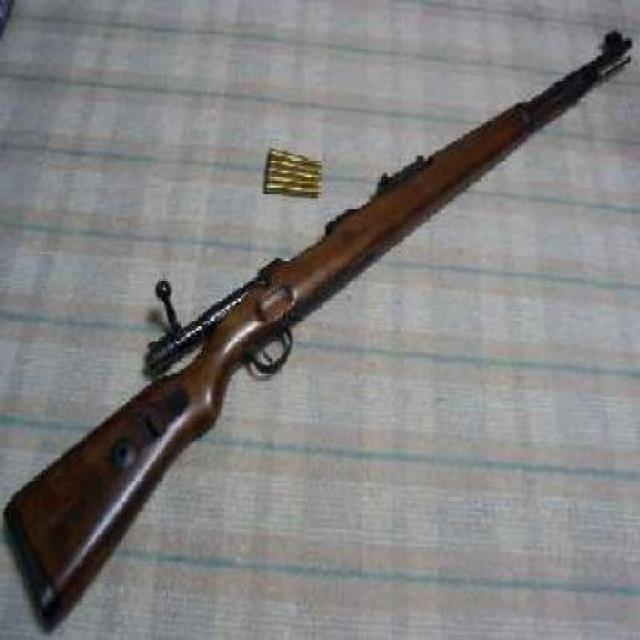weapon: (25, 21, 634, 623)
